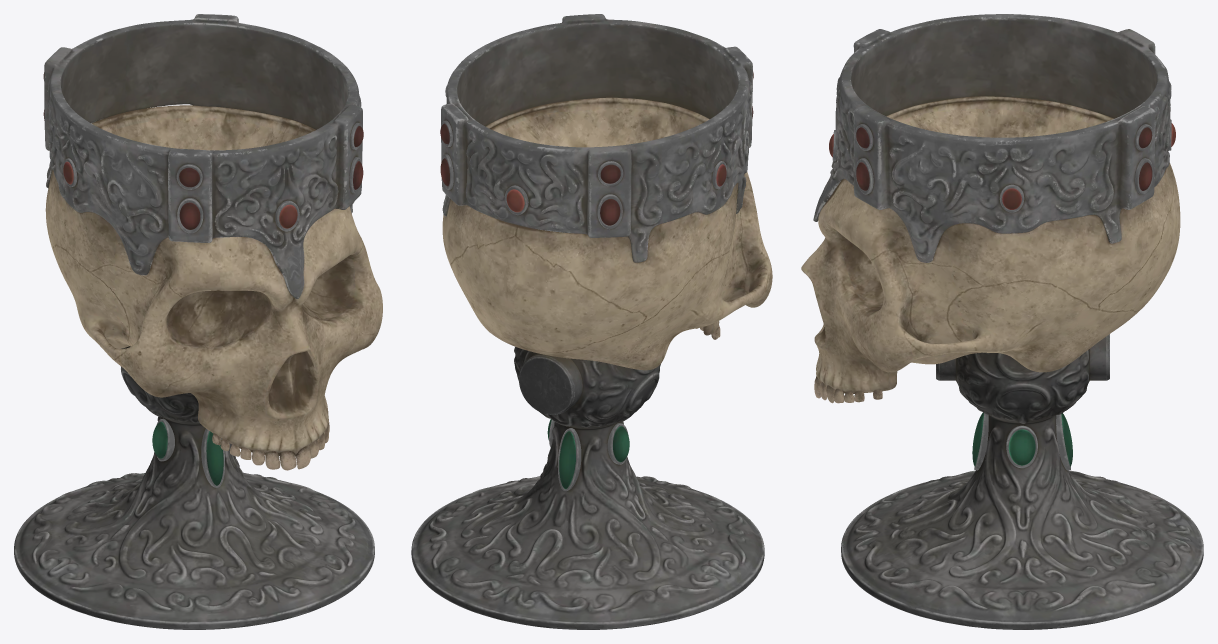
File: wolnirs_goblet.glb
The picture shows the model from 3 angles, left to right: view 1: azimuth 30°, elevation 25°; view 2: azimuth 150°, elevation 25°; view 3: azimuth 270°, elevation 25°; orthographic projection. The views are drawn at different scales.
Parts seen in each view (by area): view 1: Skull_geo_UDIM_1001_0, Goblet_Crown_geo_UDIM_1002_0, Goblet_Base_geo_UDIM_1003_0; view 2: Goblet_Base_geo_UDIM_1003_0, Goblet_Crown_geo_UDIM_1002_0, Skull_geo_UDIM_1001_0; view 3: Skull_geo_UDIM_1001_0, Goblet_Crown_geo_UDIM_1002_0, Goblet_Base_geo_UDIM_1003_0.
Part boxes in pixels (x1,y1,x2,y2): Skull_geo_UDIM_1001_0: (45, 105, 382, 488); Goblet_Crown_geo_UDIM_1002_0: (43, 14, 363, 298); Goblet_Base_geo_UDIM_1003_0: (14, 346, 374, 629); Goblet_Base_geo_UDIM_1003_0: (411, 347, 764, 629); Goblet_Crown_geo_UDIM_1002_0: (441, 14, 753, 262); Skull_geo_UDIM_1001_0: (440, 97, 772, 491); Skull_geo_UDIM_1001_0: (801, 96, 1180, 470); Goblet_Crown_geo_UDIM_1002_0: (813, 14, 1175, 262); Goblet_Base_geo_UDIM_1003_0: (841, 334, 1203, 629).
Bounding box in the file's own units: 0.1885 × 0.2748 × 0.2093.
Materials: 3 (3 with a texture image).
